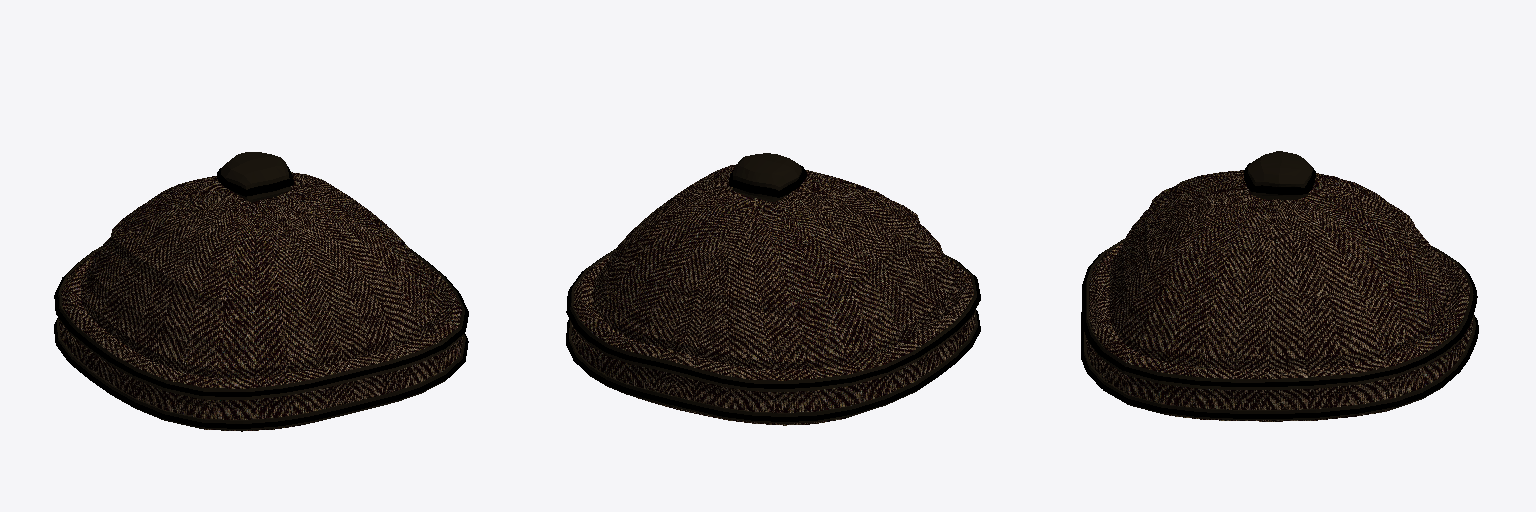
3 views of the same model, side by side, from view 1: azimuth 30°, elevation 25°; view 2: azimuth 150°, elevation 25°; view 3: azimuth 270°, elevation 25° (orthographic).
Parts seen in each view (by area): view 1: cap; view 2: cap; view 3: cap.
Boxes of the visible parts, x1,y1,x2,y2 form: cap: [54, 152, 468, 431]; cap: [566, 153, 980, 425]; cap: [1081, 151, 1478, 421].
Bounding box in the file's own units: 6.58 × 3.56 × 6.67.
3 materials, 1 textured.